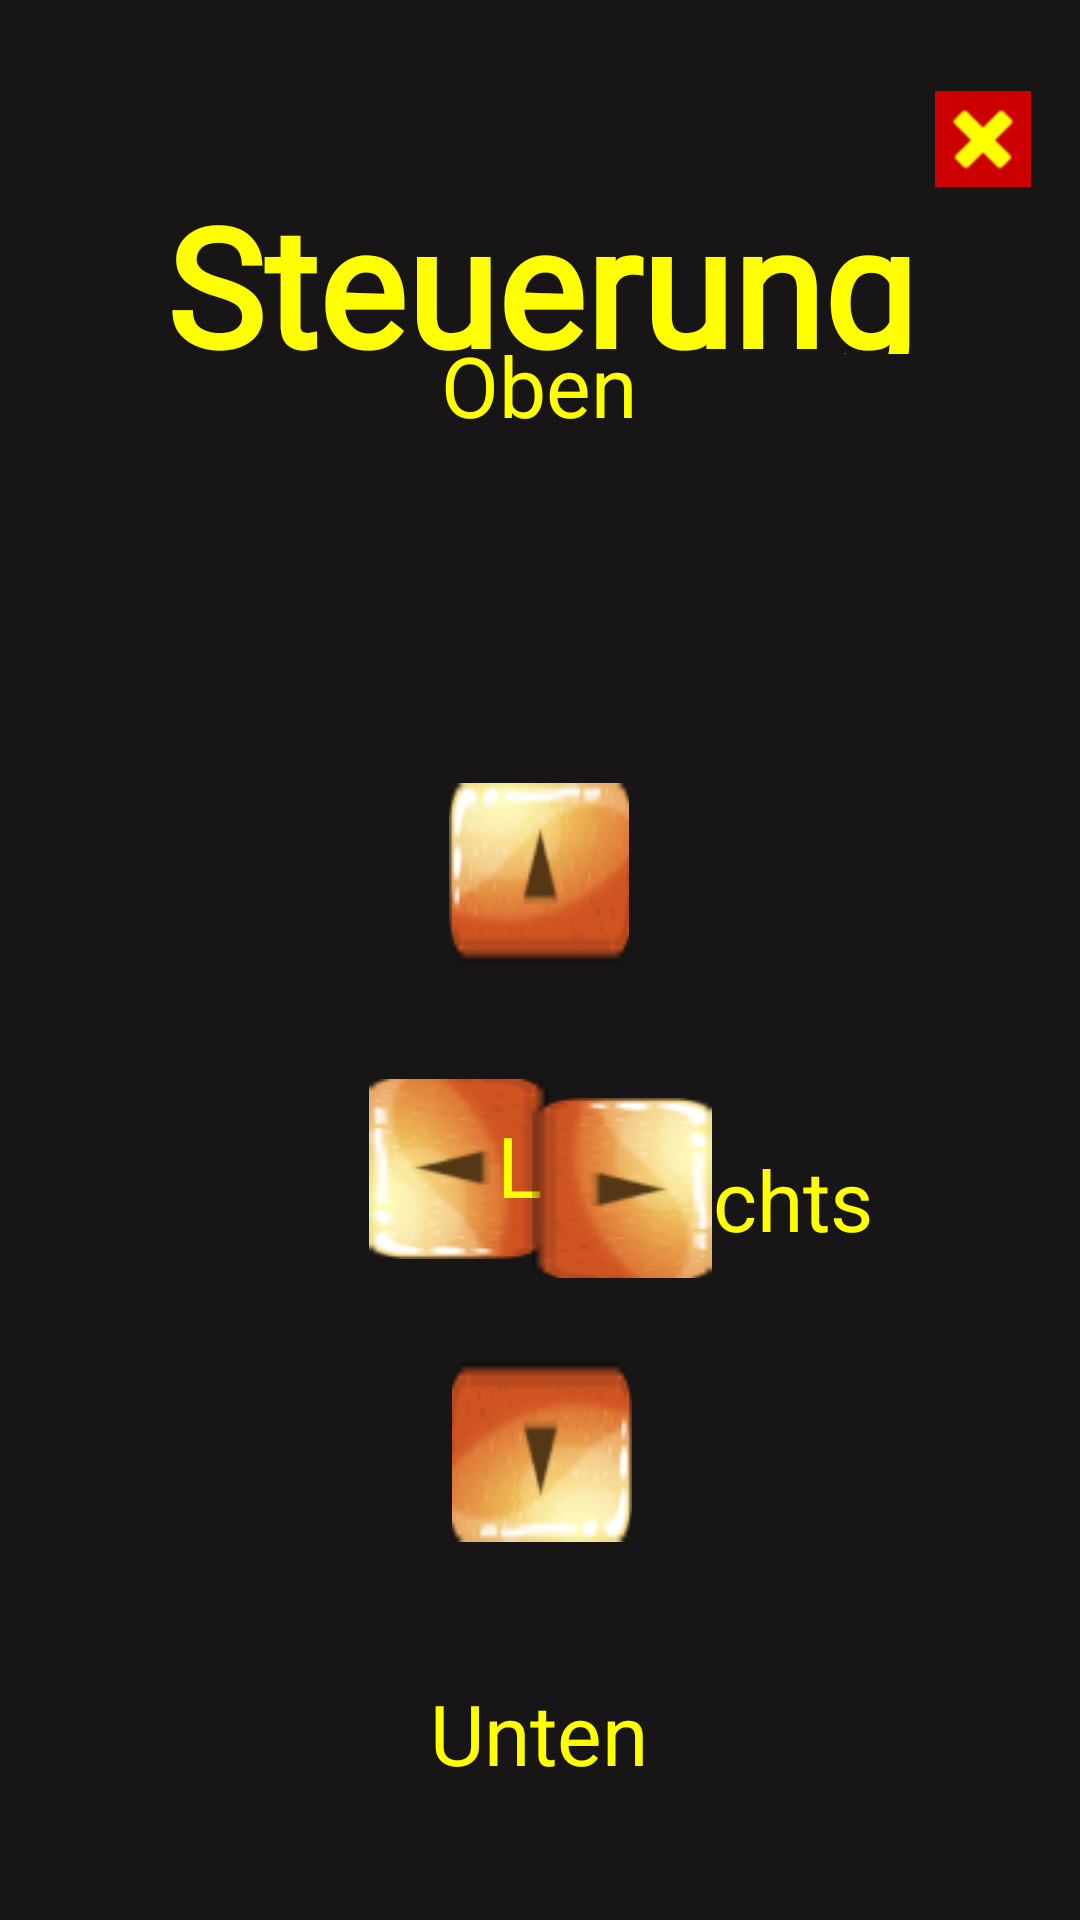

Where icons sit on this 1080*1920 app screen, as (x1, y1, x2, y2):
delete: (935, 91, 1031, 187)
